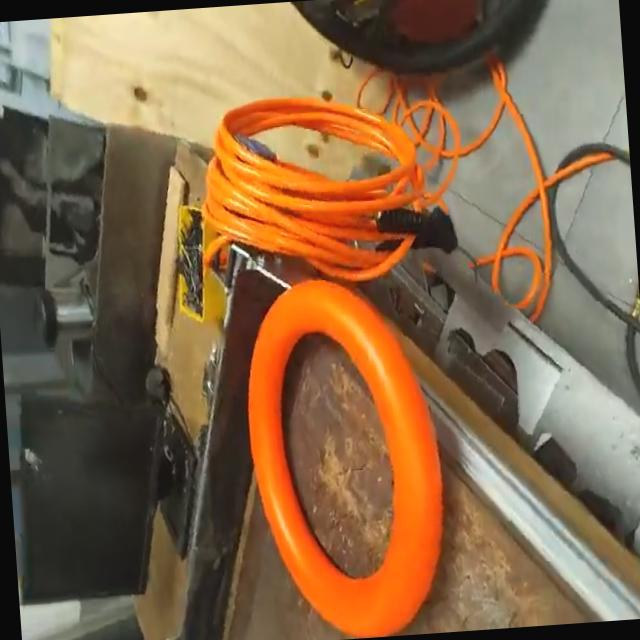note: (233, 267, 457, 640)
